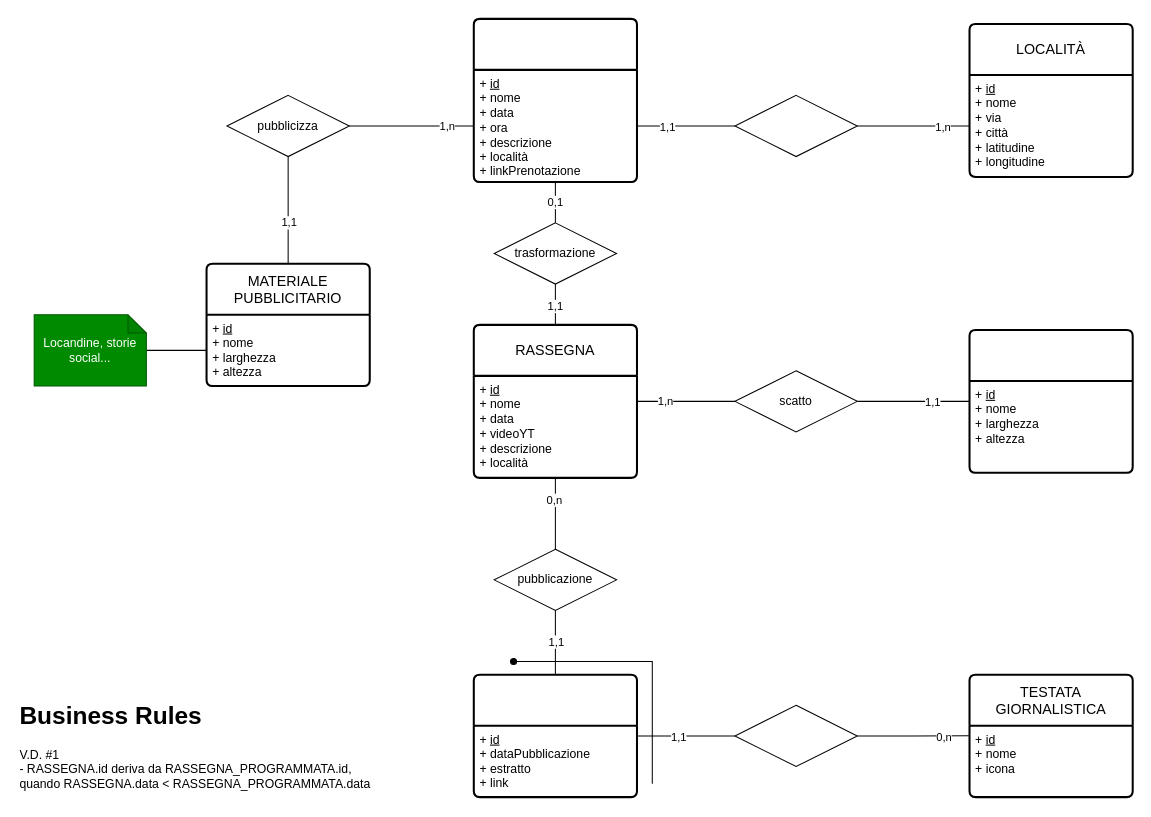
Image size: 1151x817. Some labels were removed from this diagram. Here are the shapes that lost their labels. From the top down, the box of each, then its label:
(472, 17, 638, 183): RASSEGNA PROGRAMMATA
(734, 94, 857, 157): esecuzione
(968, 328, 1133, 473): FOTO
(472, 673, 638, 798): ARTICOLO
(734, 704, 857, 767): appartenenza
